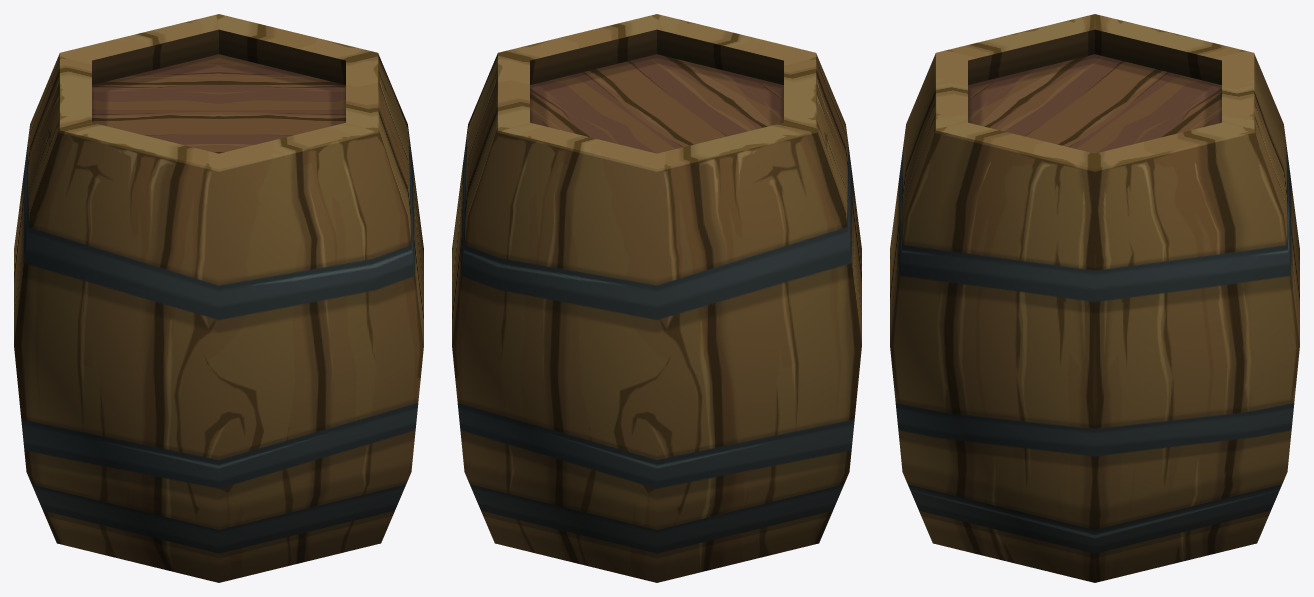
File: oak_001.fbx
The picture shows the model from 3 angles, left to right: view 1: azimuth 30°, elevation 25°; view 2: azimuth 150°, elevation 25°; view 3: azimuth 270°, elevation 25°; orthographic projection.
Visible parts, largest first — view 1: oak_001; view 2: oak_001; view 3: oak_001.
Boxes of the visible parts, x1,y1,x2,y2 form: oak_001: (14,14,423,582); oak_001: (452,14,861,582); oak_001: (890,14,1299,582).
Bounding box in the file's own units: 2.6 × 2.5 × 2.25.
